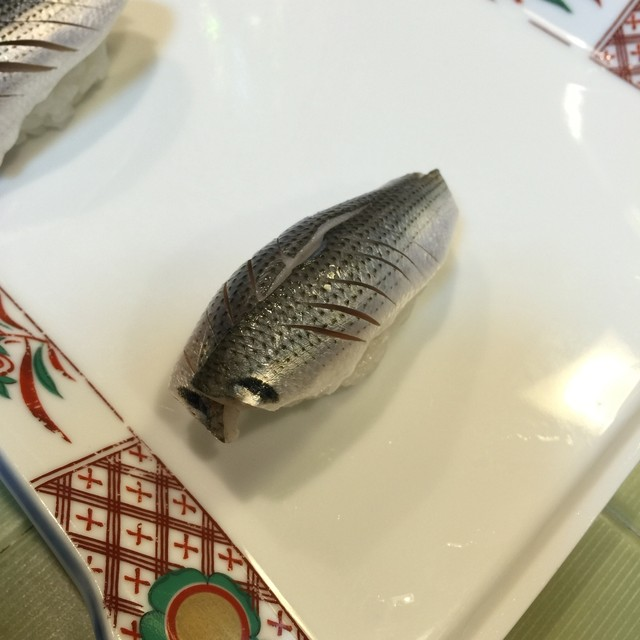spotted-shad: (163, 162, 472, 454)
